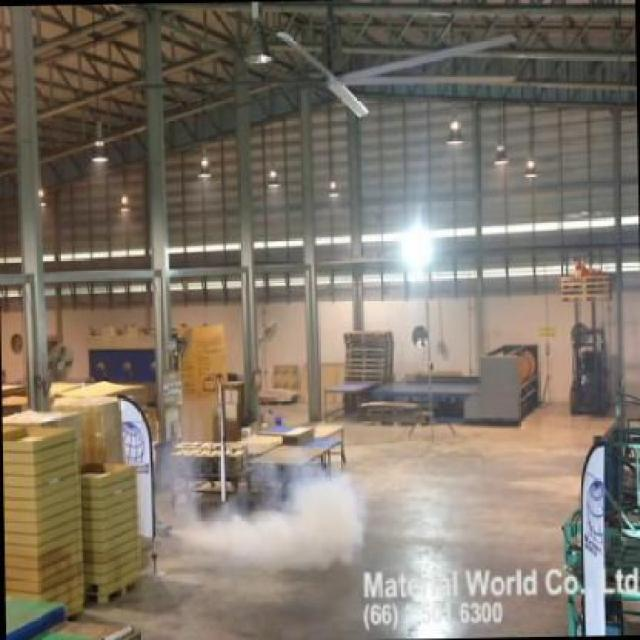fire: (197, 464, 366, 578)
